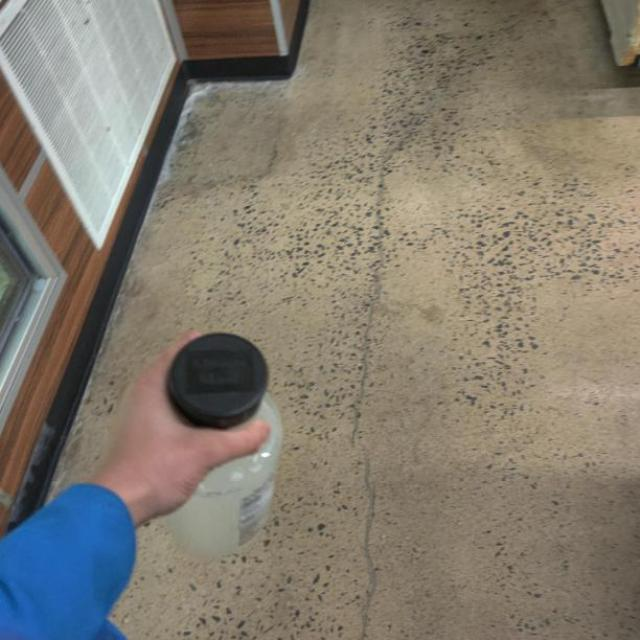Juice: (156, 319, 307, 564)
